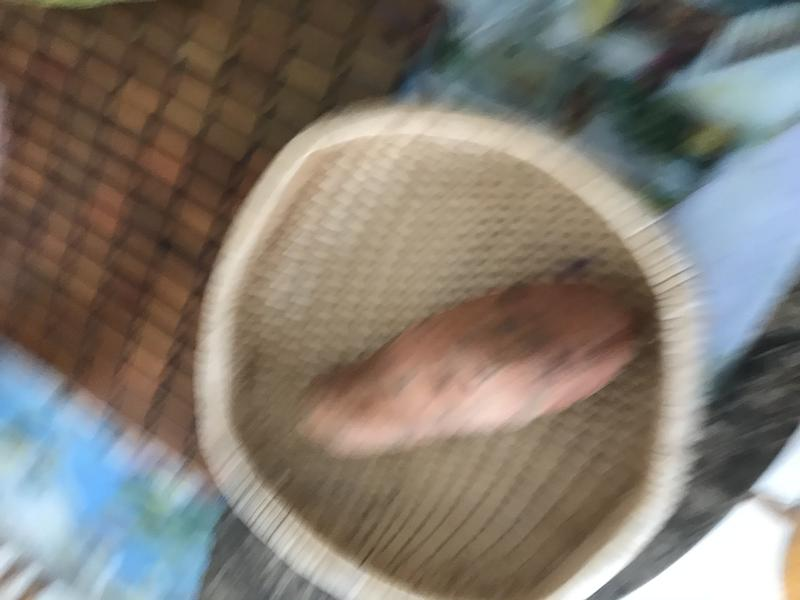sweet_potato: (280, 262, 655, 472)
